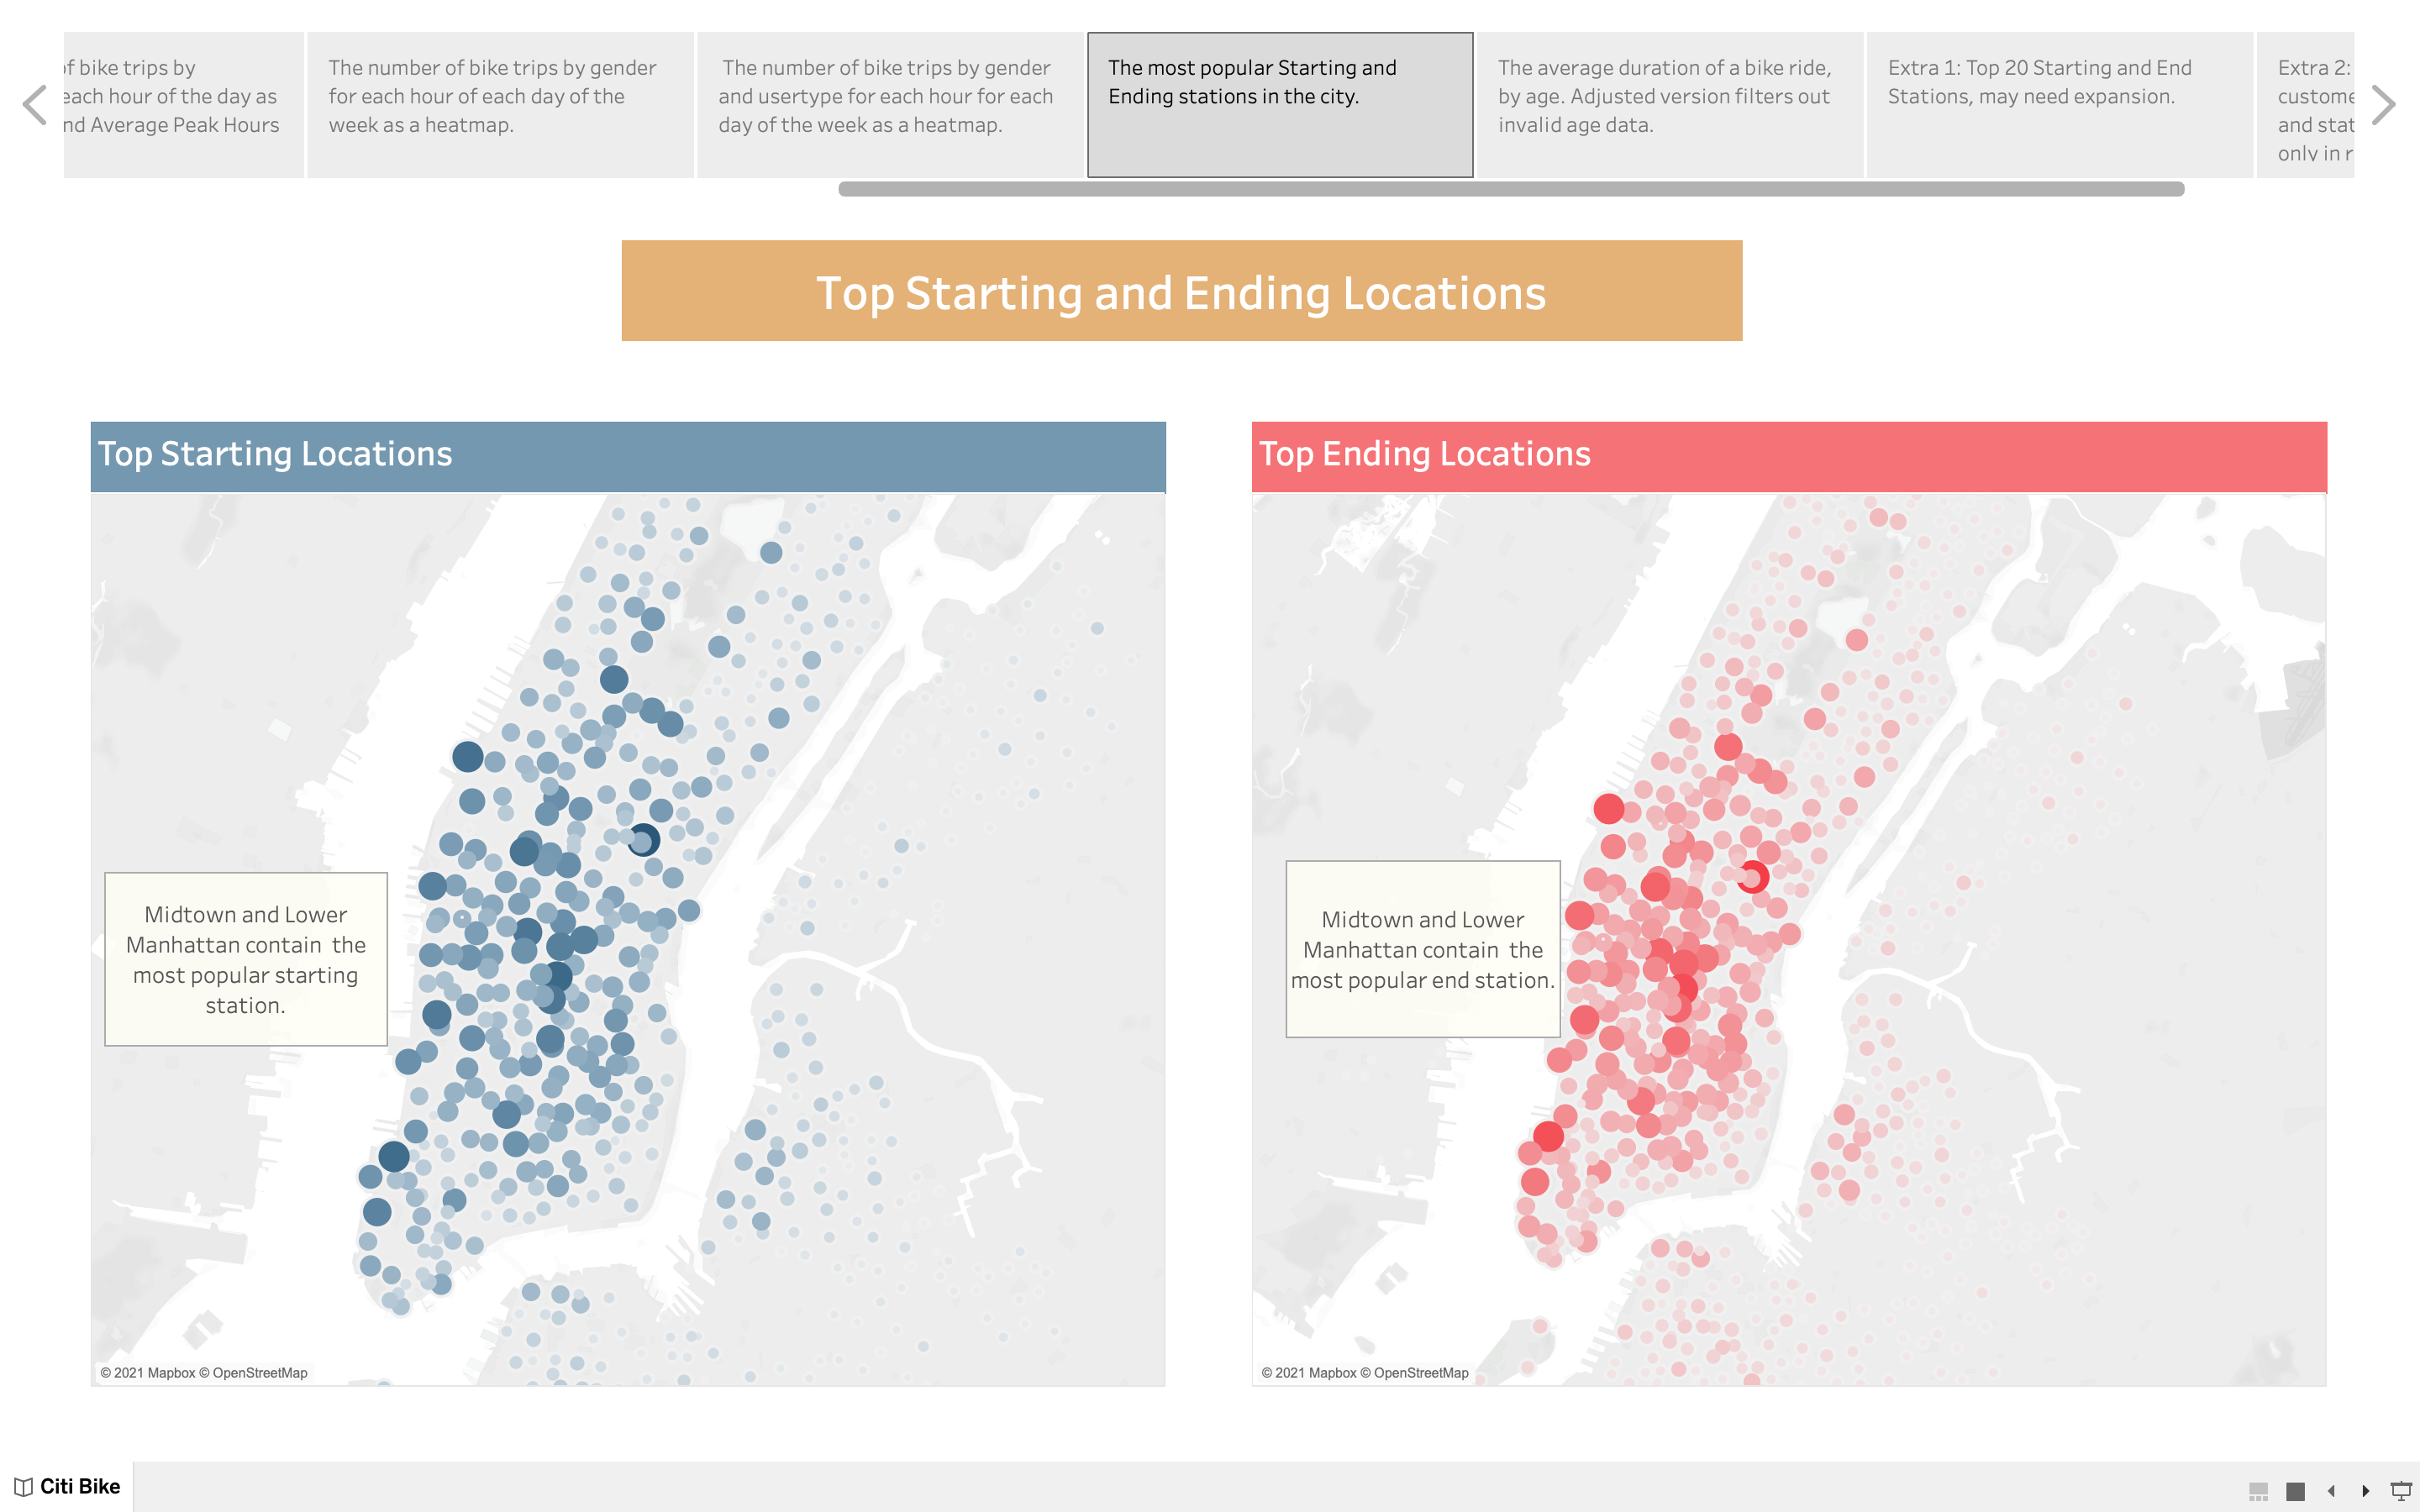

Layout of this report page (visuals, bound fields, positions):
{"tool":"tableau","page":{"name":"7. Top Starting and End Locations","canvas":[1000,1000],"units":"permille","ordinal":7},"visuals":[{"type":"text","box":[254.3,22.9,468.6,81.7]},{"type":"worksheet","title":"4. Top Starting Locations","mark":"Automatic","rows":["start station latitude"],"cols":["start station longitude"],"box":[32.2,169.3,449.2,781.2]},{"type":"worksheet","title":"5. Top Ending Locations","mark":"Automatic","rows":["end station latitude"],"cols":["end station longitude"],"box":[517.6,169.3,449.2,781.2]}]}

Visuals, with their boxes on the dashboard's canvas, which has no fixed pixel size, in thousandths of its width and height (x1, y1, x2, y2). These are canvas units, not pixel positions in the 2420x1512 screenshot, which may show the page scaled, cropped or inside an application window:
text: bbox=[254, 23, 723, 105]
"4. Top Starting Locations" worksheet: bbox=[32, 169, 481, 950]
"5. Top Ending Locations" worksheet: bbox=[518, 169, 967, 950]
